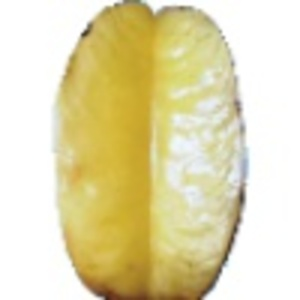carambola: (54, 1, 251, 300)
